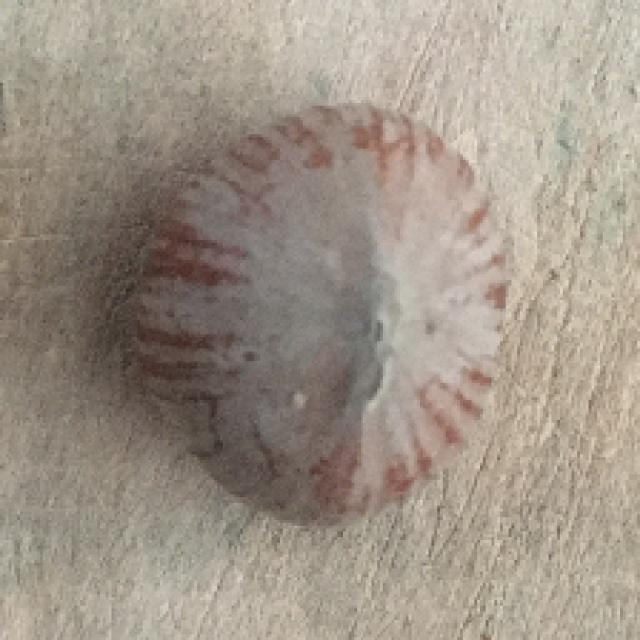qualityHazelnut: (110, 79, 521, 531)
